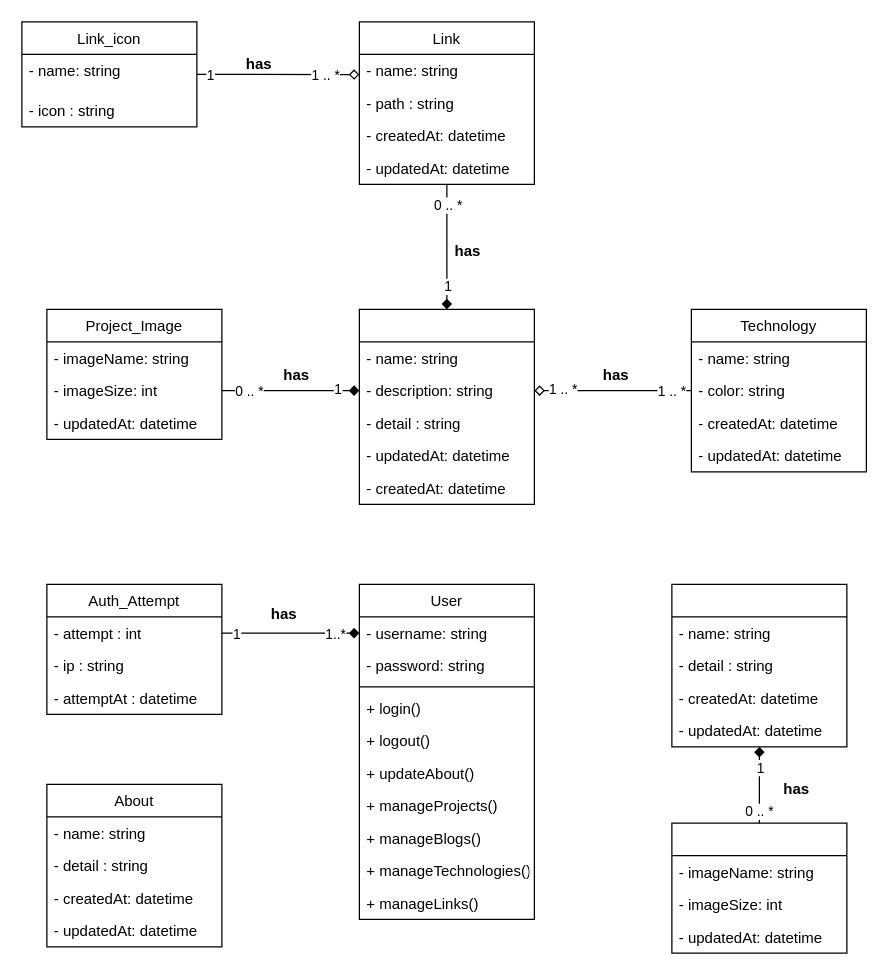
Some shapes in this 889 by 979 pixel diagram are drawn without their labels. The shapes that lost their labels are listed below. From the top down, each one's box as (x1, y1, x2, y2) in pixels, then its label:
(358, 308, 534, 504): Project
(671, 583, 847, 747): Blog
(671, 822, 847, 953): Blog_Image
